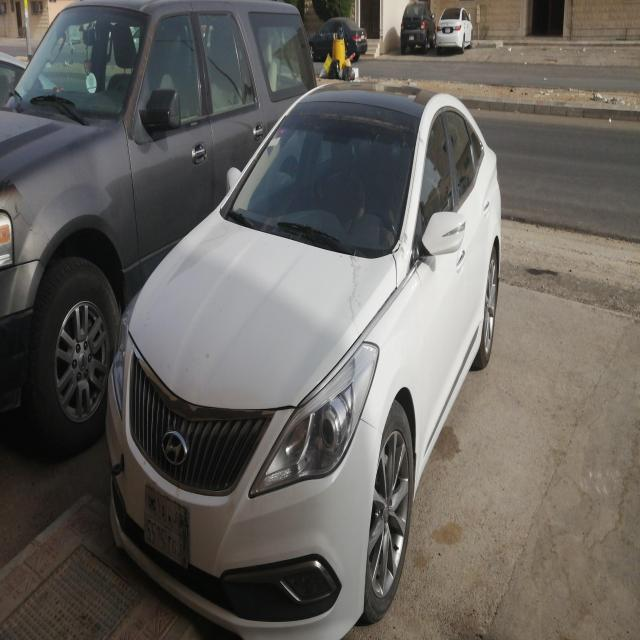license_plate: (144, 482, 189, 574), (445, 27, 450, 33), (409, 35, 414, 40), (361, 35, 365, 40)
